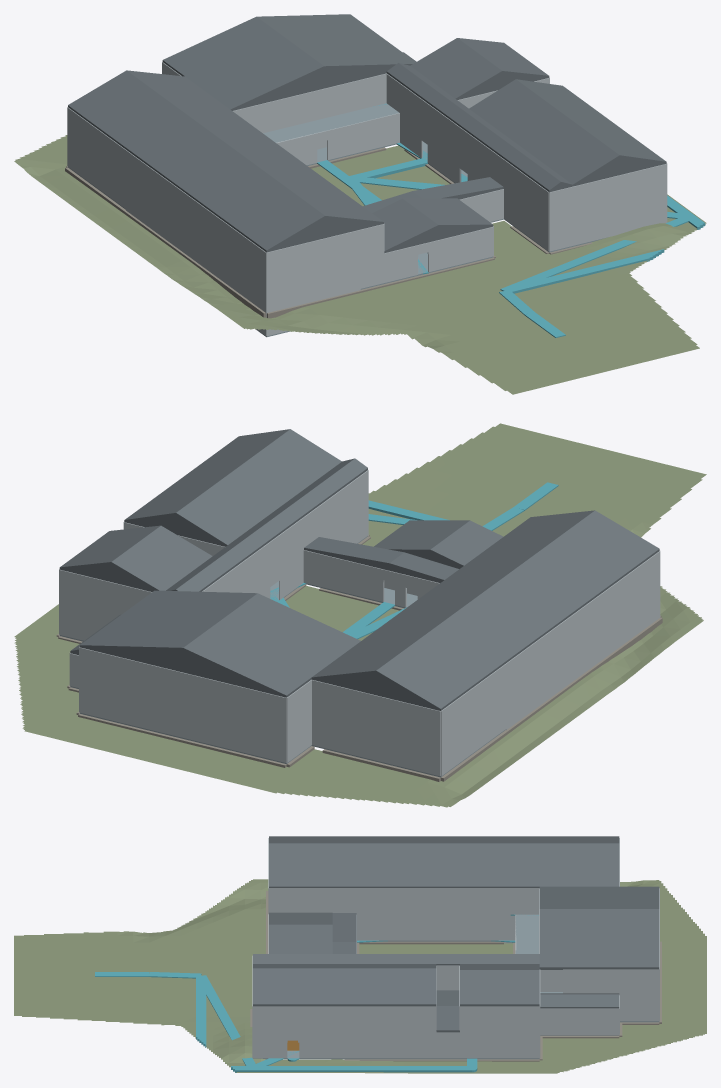
File: enclosed-roofs.glb
3 renders of one model, top to bottom at view 1: azimuth 30°, elevation 25°; view 2: azimuth 150°, elevation 25°; view 3: azimuth 270°, elevation 25°, orthographic. The views are drawn at different scales.
Visible parts, largest first — view 1: Saved editor circulation terrain ACADEMY, west-residential-library roof west, north-dormitory roof west, west-residential-library roof east, east-teaching-stair roof west, north-dormitory roof east, Wall upper-east W, Wall upper-north S, east-cloister-spine roof west, east-teaching-stair roof east, science-upper roof west, Wall upper-main-stair S (+37 smaller); view 2: Saved editor circulation terrain ACADEMY, west-residential-library roof west, north-dormitory roof west, west-residential-library roof east, east-teaching-stair roof west, north-dormitory roof east, Wall upper-east W, east-teaching-stair roof east, east-cloister-spine roof west, science-upper roof west, Flat route shell Wall south N.001, Wall restricted N (+42 smaller); view 3: Saved editor circulation terrain ACADEMY, west-residential-library roof east, north-dormitory roof east, Flat route shell Wall upper-west E.001, east-teaching-stair roof east, Flat route shell Wall west E.001, east-cloister-spine roof east, science-upper roof east, Wall lecture E, Wall study E, west-residential-library roof west, north-dormitory roof west (+23 smaller).
Boxes of the visible parts, x1,y1,x2,y2 form: Saved editor circulation terrain ACADEMY: (14, 135, 706, 394); west-residential-library roof west: (68, 70, 325, 252); north-dormitory roof west: (162, 16, 324, 110); west-residential-library roof east: (127, 70, 383, 223); east-teaching-stair roof west: (469, 79, 619, 185); north-dormitory roof east: (257, 14, 415, 67); Wall upper-east W: (386, 74, 549, 221); Wall upper-north S: (233, 73, 386, 133); east-cloister-spine roof west: (386, 63, 560, 191); east-teaching-stair roof east: (516, 79, 666, 163); science-upper roof west: (410, 38, 502, 99); Wall upper-main-stair S: (266, 229, 360, 281); Saved editor circulation terrain ACADEMY: (14, 423, 706, 807); west-residential-library roof west: (376, 510, 659, 710); north-dormitory roof west: (183, 593, 360, 697); west-residential-library roof east: (311, 510, 594, 679); east-teaching-stair roof west: (176, 429, 341, 546); north-dormitory roof east: (80, 590, 257, 649); Wall upper-east W: (202, 470, 368, 592); east-teaching-stair roof east: (124, 429, 289, 521); east-cloister-spine roof west: (176, 458, 367, 591); science-upper roof west: (111, 525, 212, 590); Flat route shell Wall south N.001: (303, 550, 384, 601); Wall restricted N: (59, 569, 151, 616); Saved editor circulation terrain ACADEMY: (14, 879, 706, 1073); west-residential-library roof east: (269, 843, 619, 888); north-dormitory roof east: (539, 909, 659, 968); Flat route shell Wall upper-west E.001: (269, 888, 539, 914); east-teaching-stair roof east: (253, 968, 436, 1005); Flat route shell Wall west E.001: (357, 914, 515, 940); east-cloister-spine roof east: (253, 954, 539, 965); science-upper roof east: (460, 970, 539, 1005); Wall lecture E: (332, 1032, 436, 1058); Wall study E: (332, 1006, 436, 1032); west-residential-library roof west: (269, 836, 619, 843); north-dormitory roof west: (539, 886, 659, 908).
Bounding box in the file's own units: 58 × 13.1 × 87.
